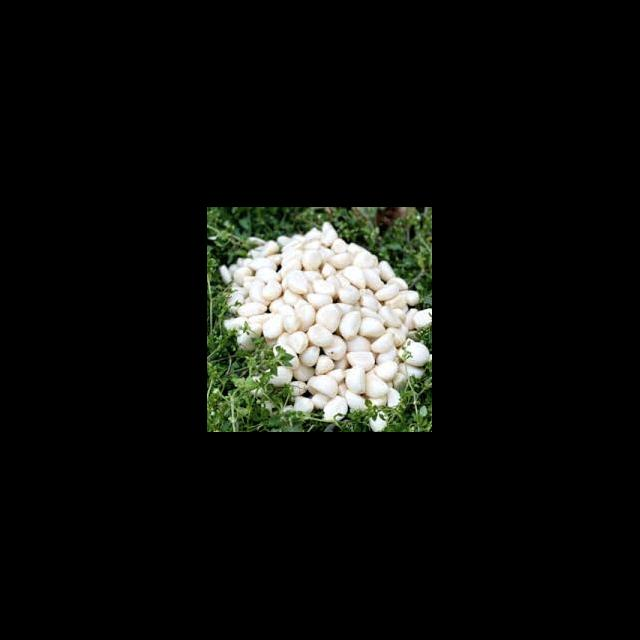garlic: (340, 282, 402, 344), (280, 276, 344, 336), (300, 342, 370, 396), (280, 242, 354, 280)
